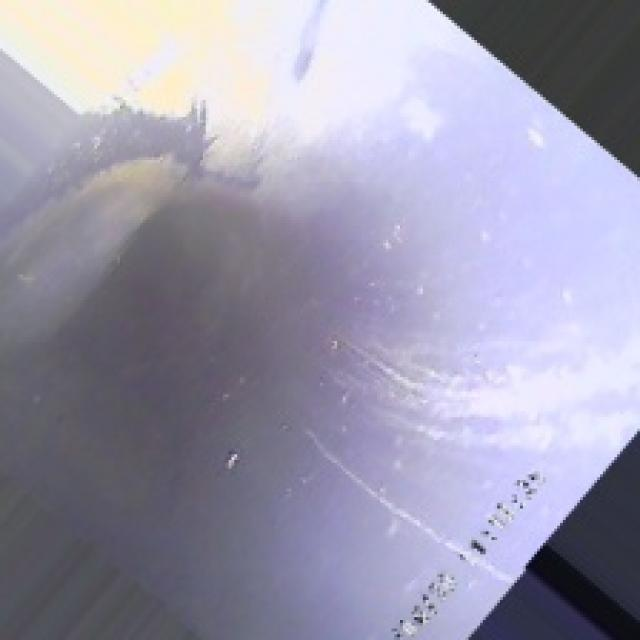shape_deformation: (60, 126, 449, 491)
